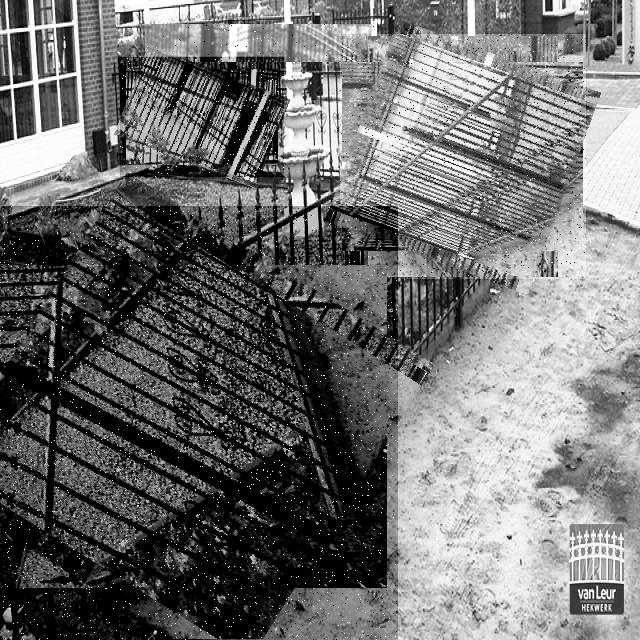fences: (0, 206, 398, 640), (340, 34, 586, 279), (120, 57, 284, 177), (145, 24, 377, 62)
